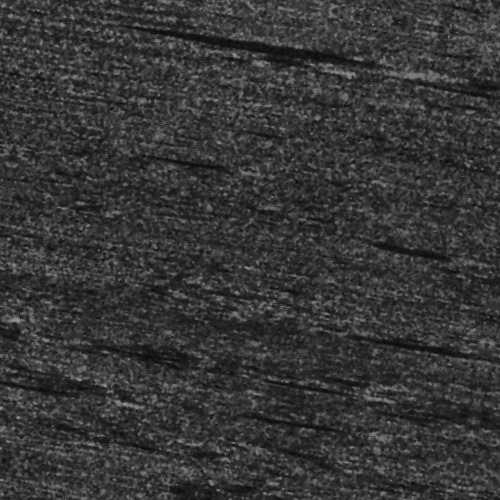object: (324, 38, 417, 49), (351, 406, 444, 413), (377, 370, 440, 375), (425, 219, 478, 224), (215, 169, 256, 174), (481, 310, 500, 319), (117, 419, 148, 422), (0, 492, 7, 495)
shadow: (149, 38, 370, 49), (403, 310, 500, 319), (296, 406, 397, 413), (146, 169, 235, 174), (375, 219, 452, 224), (332, 370, 408, 375), (102, 419, 132, 422)
